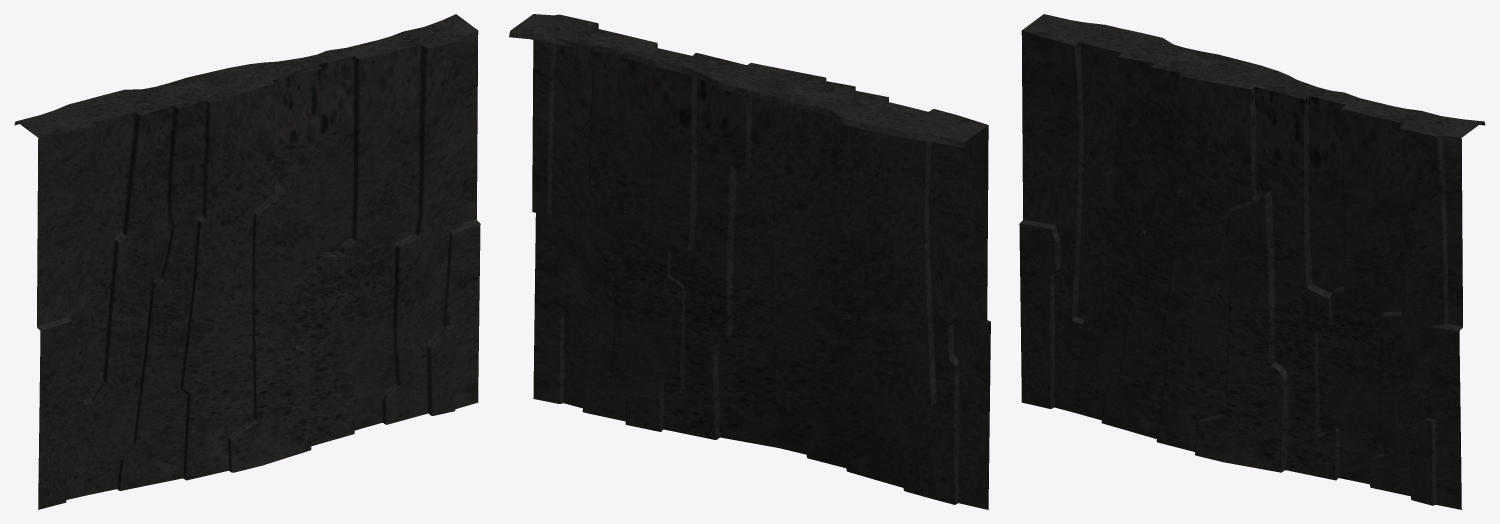
Rendered from CaveCliffM.fbx.
3 views of the same model, side by side, from view 1: azimuth 30°, elevation 25°; view 2: azimuth 150°, elevation 25°; view 3: azimuth 330°, elevation 25° (orthographic). The views are drawn at different scales.
Visible parts, largest first — view 1: SM_ENV_NATURE_Cave_Wall_L_10m.mo; view 2: SM_ENV_NATURE_Cave_Wall_L_10m.mo; view 3: SM_ENV_NATURE_Cave_Wall_L_10m.mo.
Part boxes in pixels (x1,y1,x2,y2): SM_ENV_NATURE_Cave_Wall_L_10m.mo: (14, 14, 480, 509); SM_ENV_NATURE_Cave_Wall_L_10m.mo: (509, 14, 990, 509); SM_ENV_NATURE_Cave_Wall_L_10m.mo: (1019, 14, 1485, 509).
Size of the model in its own units: 1005 by 814 by 159.
2 materials, 2 textured.
